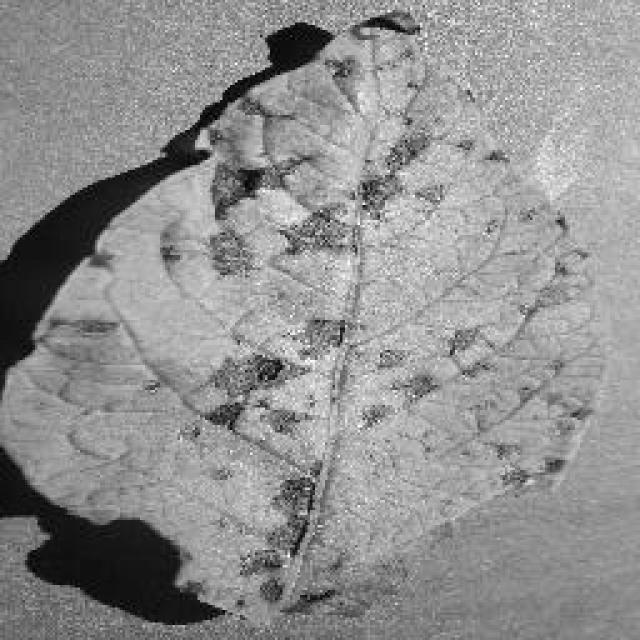Potato: (0, 10, 610, 628)
